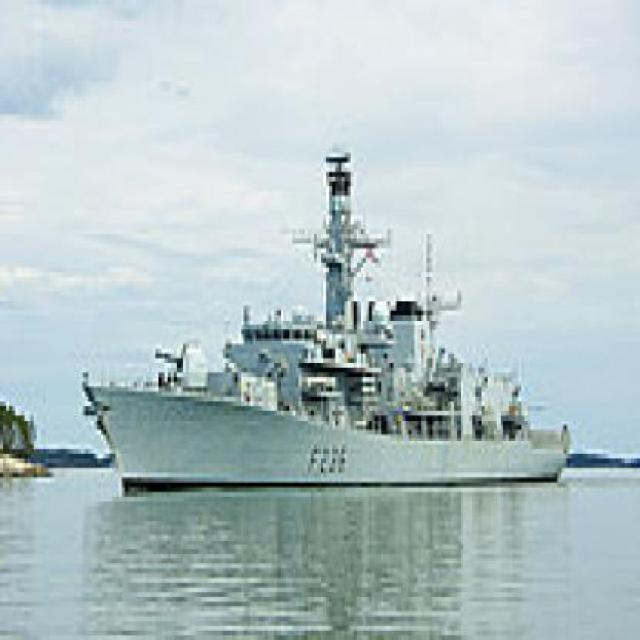warship2: (68, 130, 580, 527)
